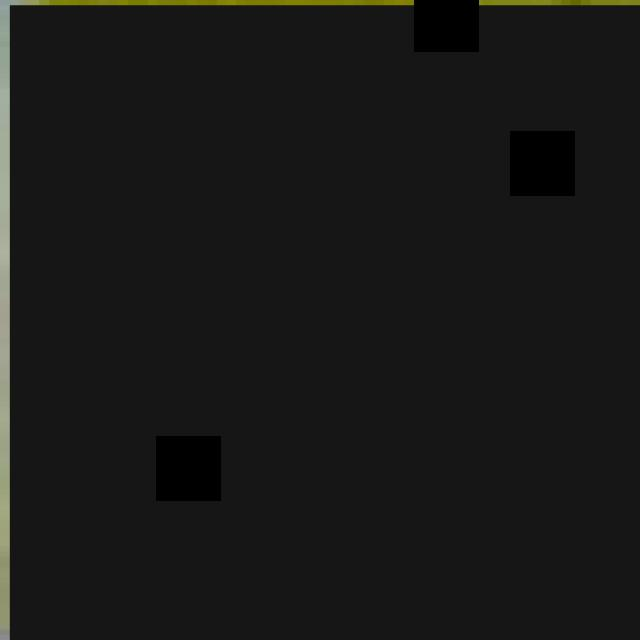smoke: (10, 5, 640, 640)
